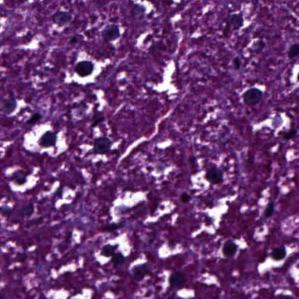inflammation: (73, 57, 96, 80)
